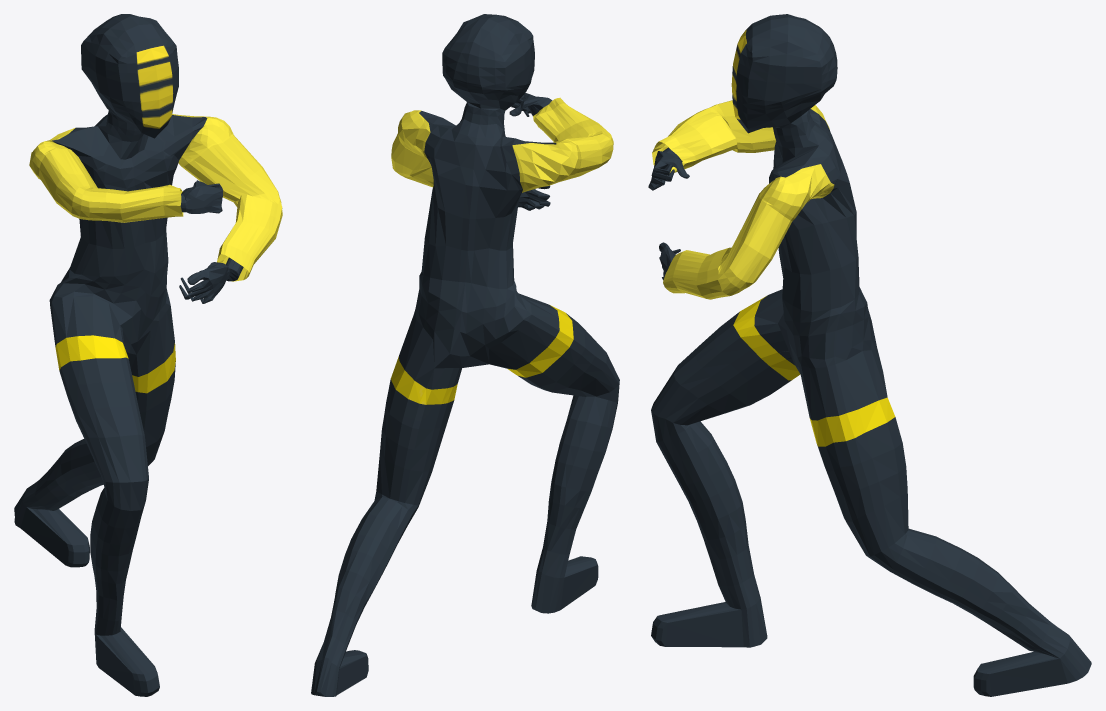
Rendered from Sentry_Hit_Stun_000007.obj.
The picture shows the model from 3 angles, left to right: view 1: azimuth 30°, elevation 25°; view 2: azimuth 150°, elevation 25°; view 3: azimuth 270°, elevation 25°; orthographic projection. The views are drawn at different scales.
Visible parts, largest first — view 1: Cube; view 2: Cube; view 3: Cube.
Boxes of the visible parts, x1,y1,x2,y2 form: Cube: [14, 14, 282, 696]; Cube: [311, 14, 619, 696]; Cube: [648, 14, 1091, 696].
Size of the model in its own units: 1.28 by 3.48 by 2.14.
